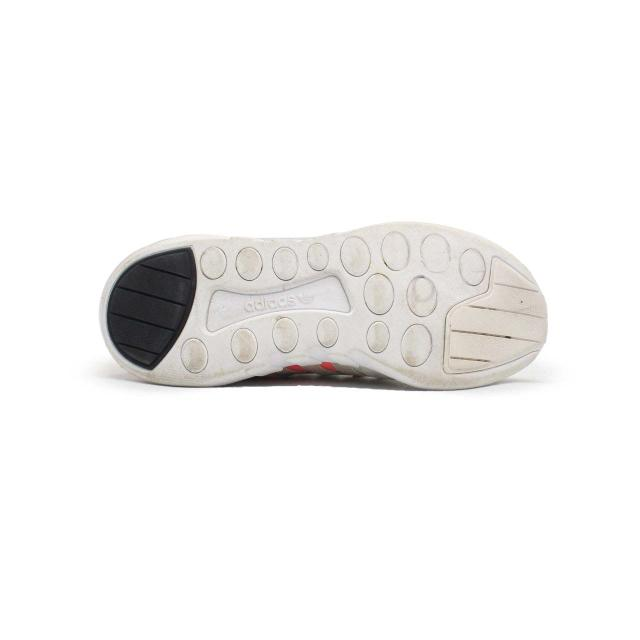outersole: (100, 222, 548, 395)
